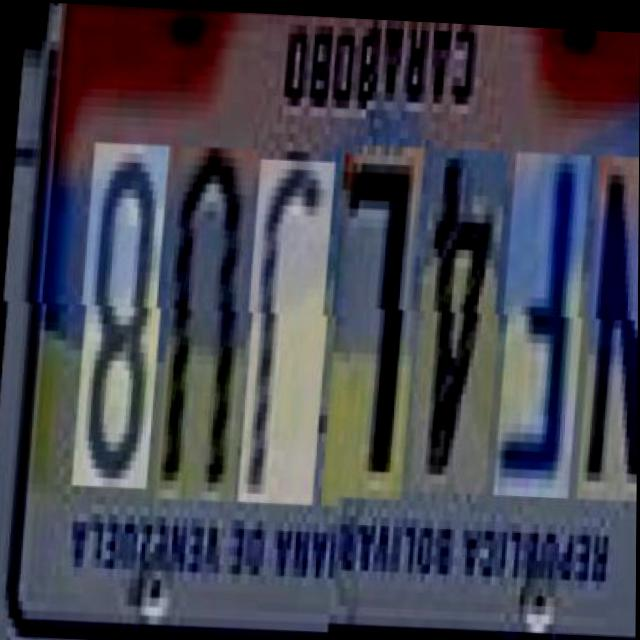4: (404, 142, 501, 490)
8: (65, 129, 163, 478)
f: (487, 144, 584, 493)
j: (232, 145, 329, 493)
l: (315, 139, 416, 497)
n: (570, 147, 639, 495)
u: (149, 132, 250, 490)
